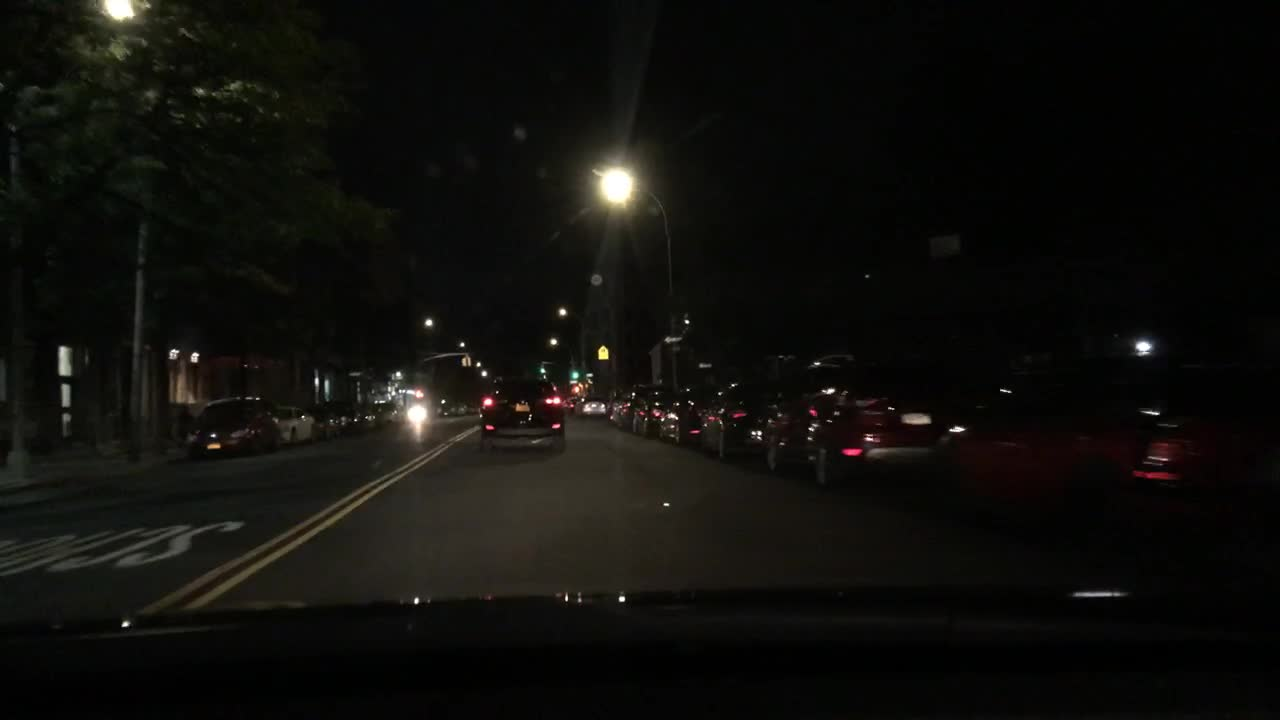car: (922, 366, 1277, 530), (761, 353, 966, 485), (693, 381, 784, 460), (481, 376, 567, 453), (184, 395, 279, 462), (656, 385, 714, 443), (630, 385, 674, 437), (607, 383, 646, 429), (273, 404, 315, 444), (328, 399, 362, 436), (308, 404, 343, 439), (354, 401, 380, 432), (375, 402, 406, 427), (574, 395, 607, 416), (408, 402, 432, 425), (562, 395, 581, 415), (434, 402, 450, 418), (452, 401, 467, 416), (467, 401, 481, 415)
traffic light: (413, 387, 427, 401), (567, 369, 581, 381)
traffic sign: (595, 345, 609, 360), (663, 334, 682, 345), (460, 355, 473, 369), (695, 362, 716, 369), (348, 373, 364, 380)
